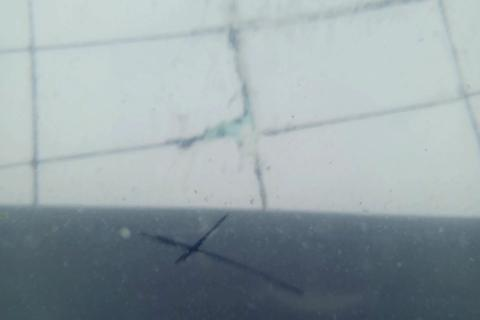keretakan: (139, 214, 306, 299)
